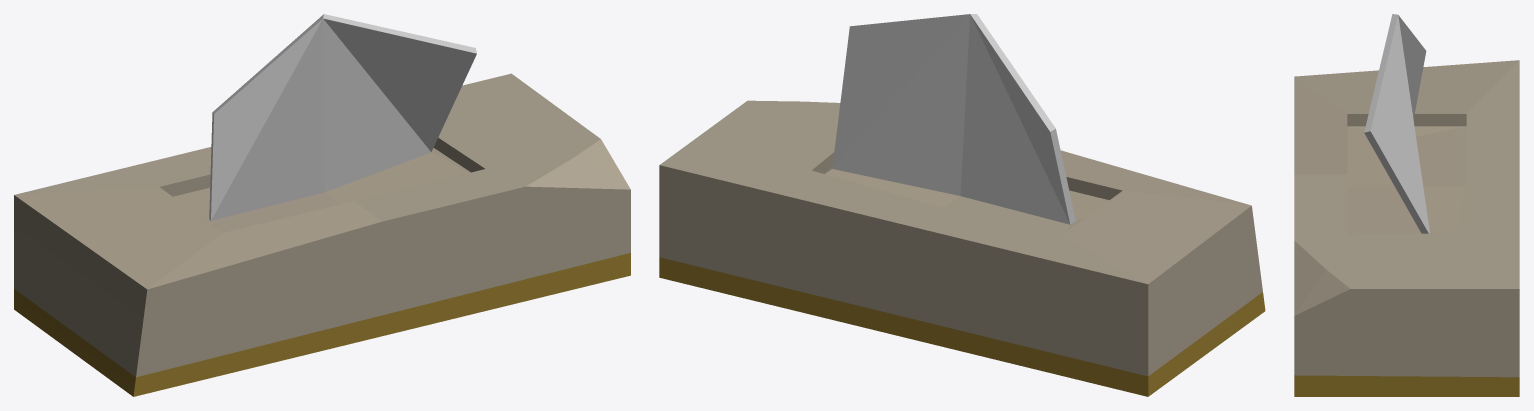
The model's file is SM_Tissues.fbx.
3 renders of one model, left to right at view 1: azimuth 30°, elevation 25°; view 2: azimuth 150°, elevation 25°; view 3: azimuth 270°, elevation 25°, orthographic. The views are drawn at different scales.
Parts seen in each view (by area): view 1: Tissues; view 2: Tissues; view 3: Tissues.
Part boxes in pixels (bbox=[...]): Tissues: bbox=[14, 14, 630, 396]; Tissues: bbox=[659, 14, 1265, 396]; Tissues: bbox=[1294, 14, 1519, 396].
Size of the model in its own units: 65.66 by 35.66 by 27.3.
